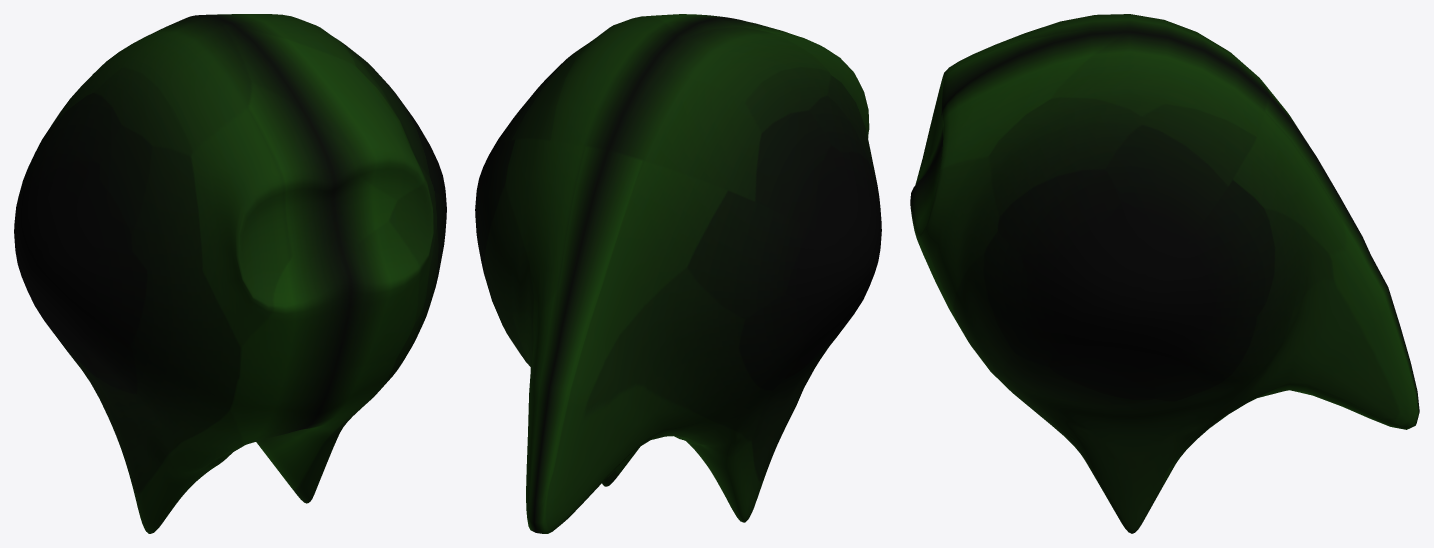
The model's file is dino_2.obj.
The picture shows the model from 3 angles, left to right: view 1: azimuth 30°, elevation 25°; view 2: azimuth 150°, elevation 25°; view 3: azimuth 270°, elevation 25°; orthographic projection. The views are drawn at different scales.
Visible parts, largest first — view 1: creature; view 2: creature; view 3: creature.
Part boxes in pixels (bbox=[...]): creature: bbox=[14, 14, 446, 533]; creature: bbox=[475, 14, 881, 533]; creature: bbox=[910, 14, 1419, 533].
Bounding box in the file's own units: 9.52 × 11.39 × 11.24.
Materials: 1 (1 with a texture image).
